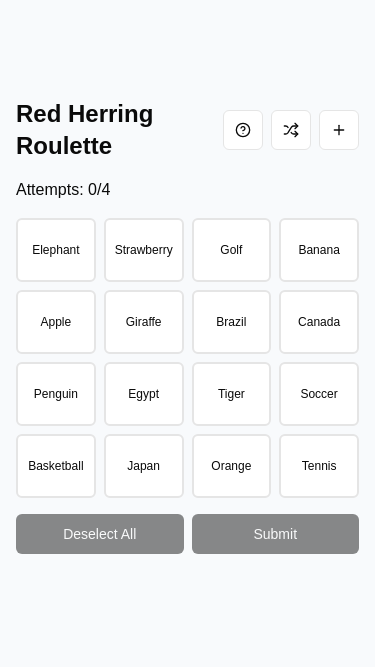
Test: Home Page › Playing the game › should allow solving the "Sports" category
The image size is (375, 667).
Step 1. Click the button "Soccer" → (319, 394), box [279,362,359,426]
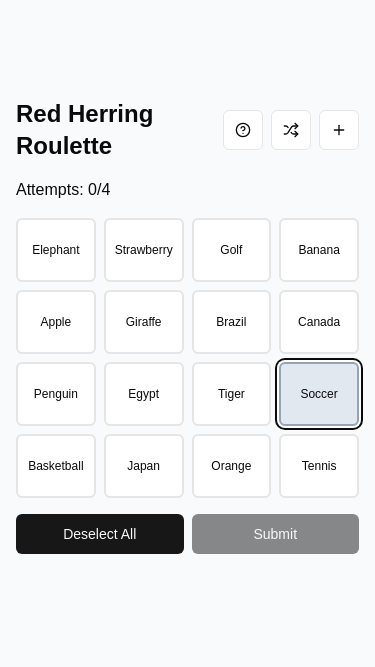
Step 2. Click the button "Tennis" → (319, 466), box [279,434,359,498]
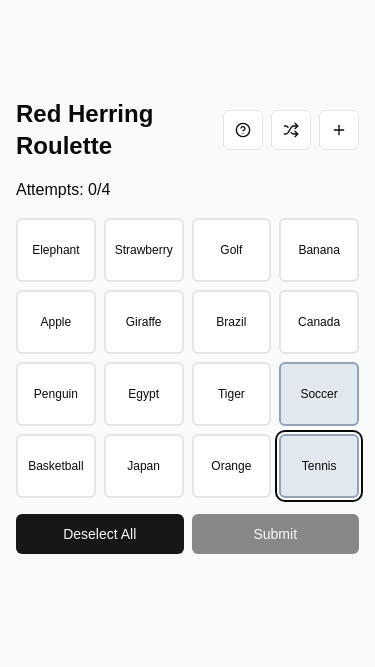
Step 3. Click the button "Basketball" → (56, 466), box [16,434,96,498]
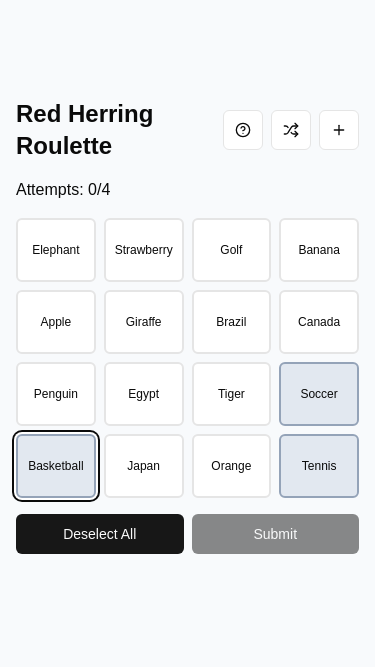
Step 4. Click the button "Golf" → (232, 250), box [192,218,272,282]
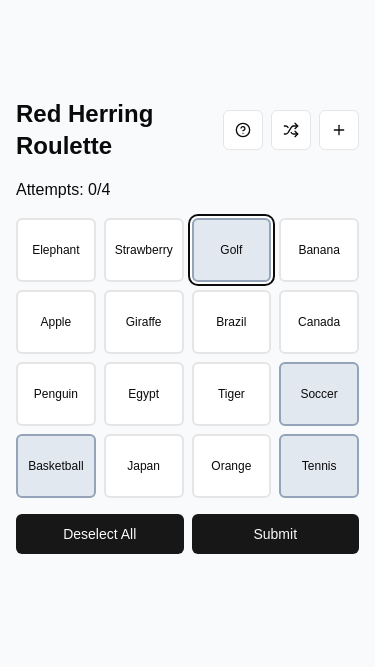
Step 5. Click the button with test id "submit-button" → (276, 534), box [192,514,360,554]
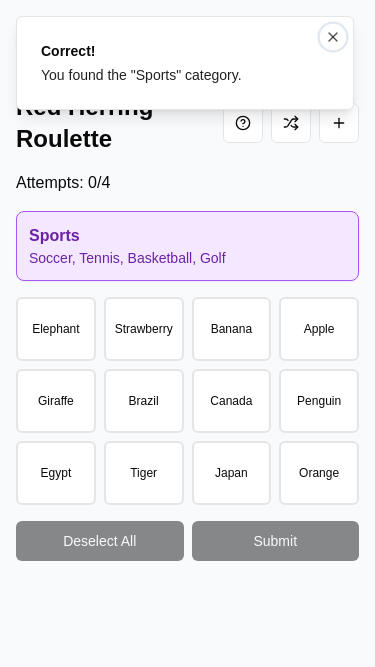
Check: the list item with test id "toast" is shown, box [16,16,354,110]
Check: the text "Correct!" is shown, box [41,43,96,59]
Check: the element with test id "solved-category" is shown, box [16,211,359,281]
